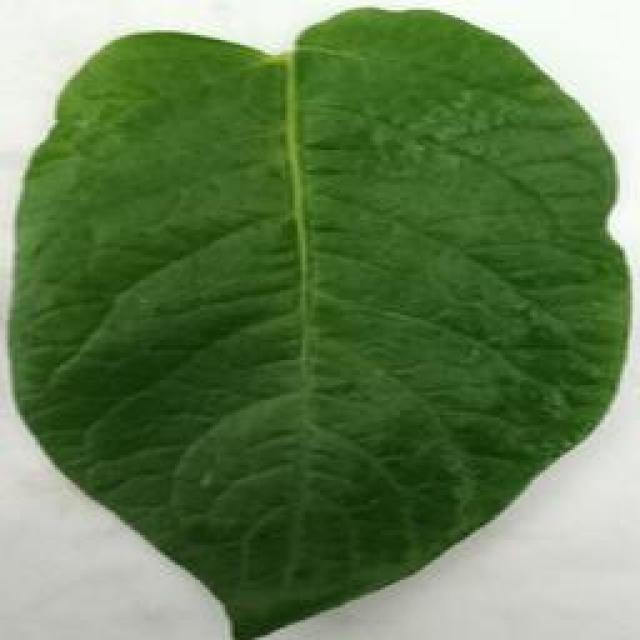Potato_Healthy: (9, 9, 621, 636)
